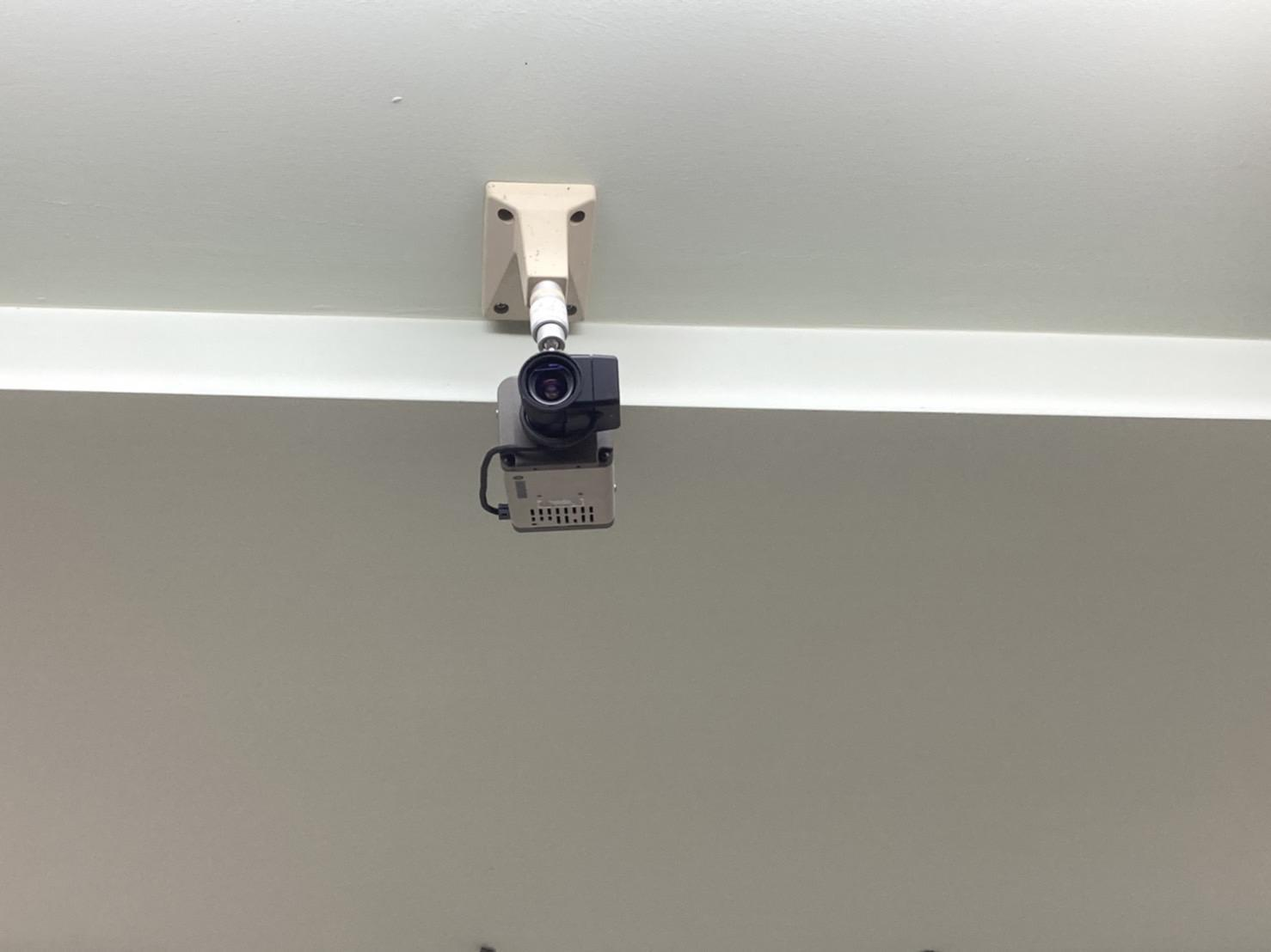tutu: (488, 339, 633, 541)
